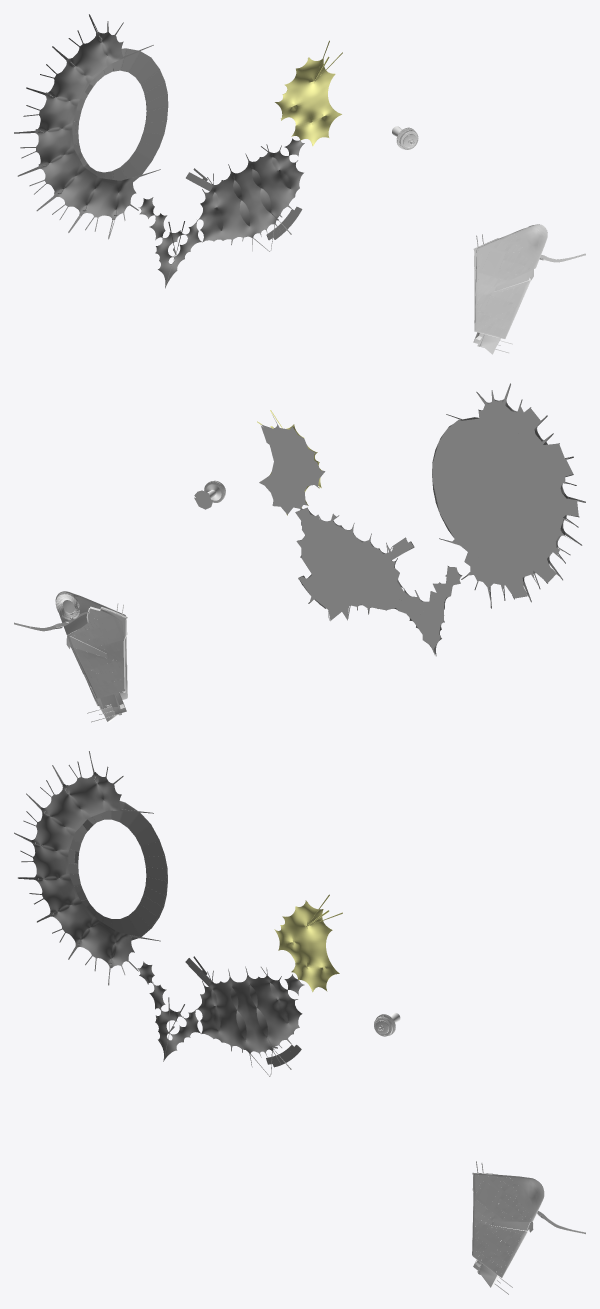
The picture shows the model from 3 angles, top to bottom: view 1: azimuth 30°, elevation 25°; view 2: azimuth 150°, elevation 25°; view 3: azimuth 330°, elevation 25°; orthographic projection.
Size of the model in its own units: 5338 by 3937 by 292.
